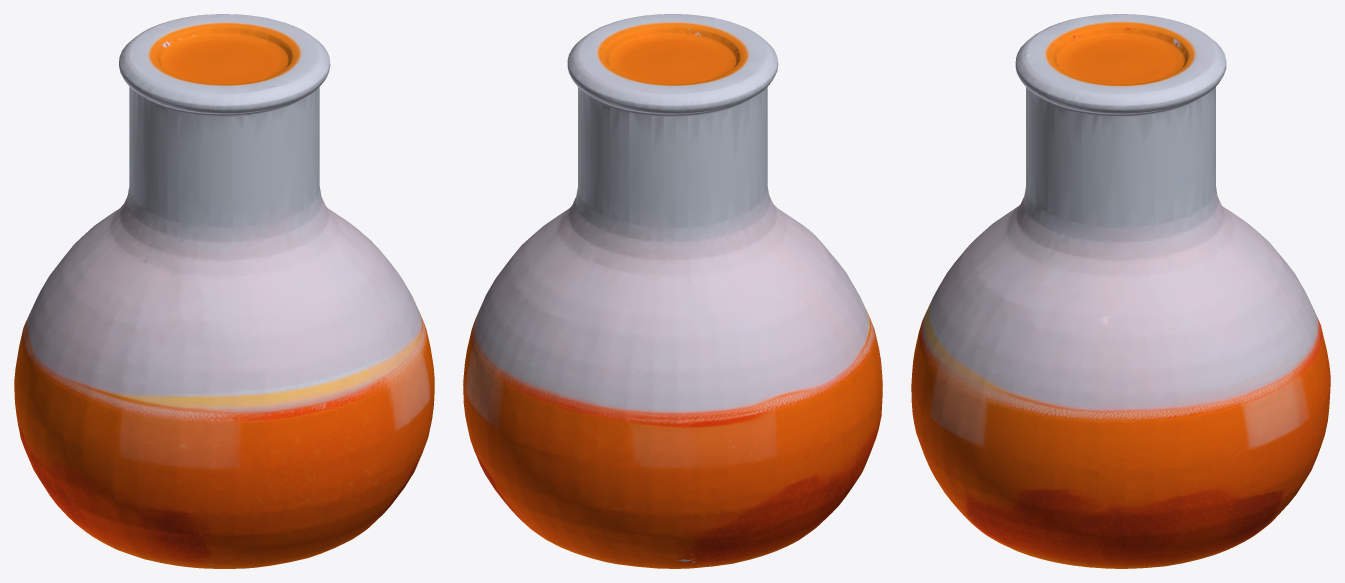
File: potion_strength.glb
3 renders of one model, left to right at view 1: azimuth 30°, elevation 25°; view 2: azimuth 150°, elevation 25°; view 3: azimuth 270°, elevation 25°, orthographic.
Parts seen in each view (by area): view 1: world; view 2: world; view 3: world.
Boxes of the visible parts, x1=… form: world: x1=14, y1=14, x2=434, y2=568; world: x1=463, y1=14, x2=882, y2=568; world: x1=911, y1=14, x2=1330, y2=568.
Bounding box in the file's own units: 1.6 × 1.95 × 1.6.
1 material, 1 textured.
